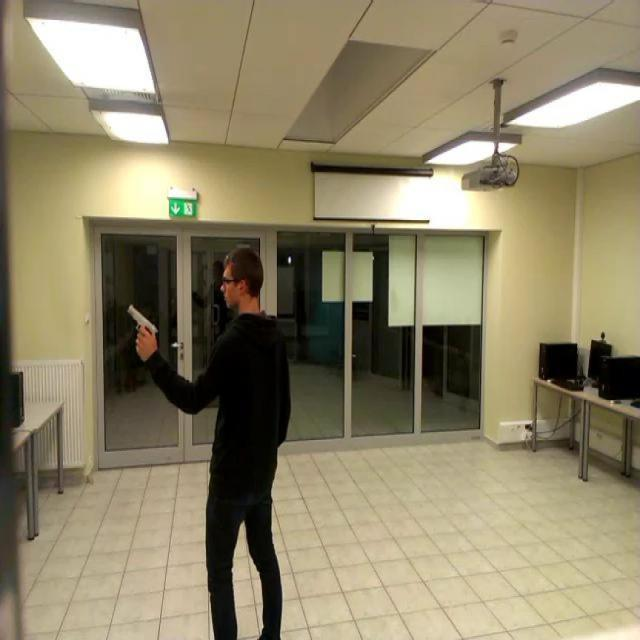pistol: (128, 303, 159, 346)
